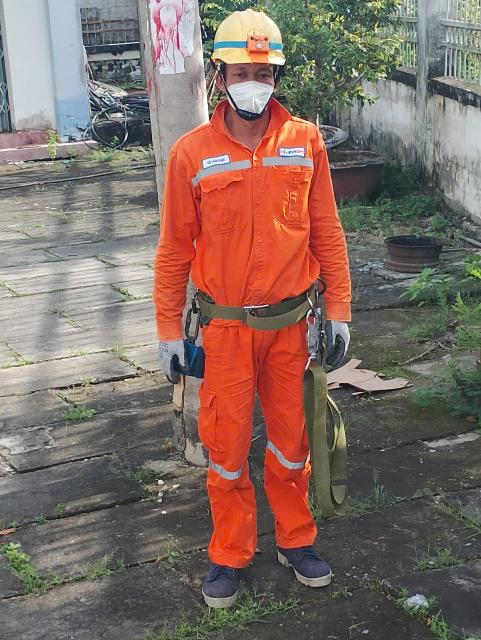gloves: (142, 325, 203, 399), (315, 312, 364, 367)
harness: (196, 263, 328, 352)
helmet: (195, 0, 304, 76)
shoes: (174, 540, 257, 619), (264, 513, 337, 592)
